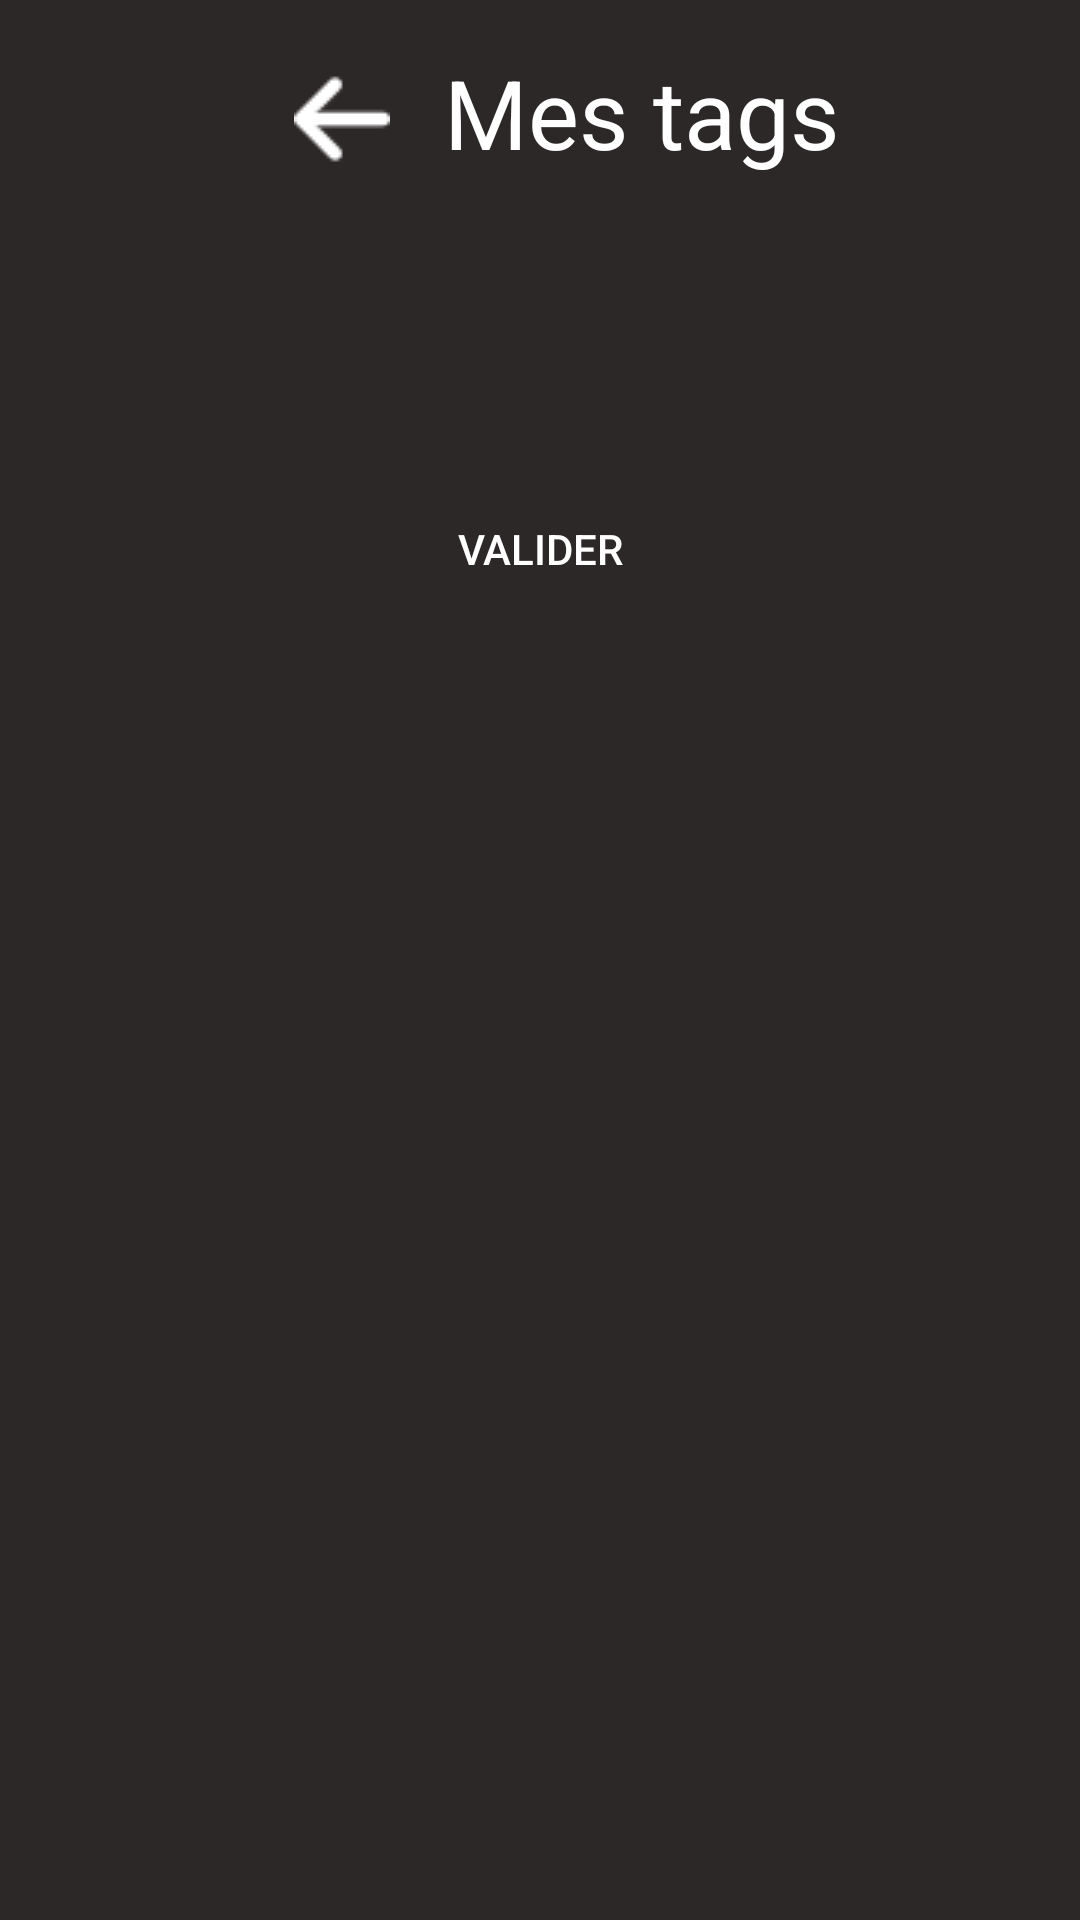

Where icons sit on this 1080 x 1920 app screen, as {"x1": x1, "y1": y1, "x2": x2, "y2": y2}:
Bouton de retour: {"x1": 294, "y1": 76, "x2": 390, "y2": 162}
